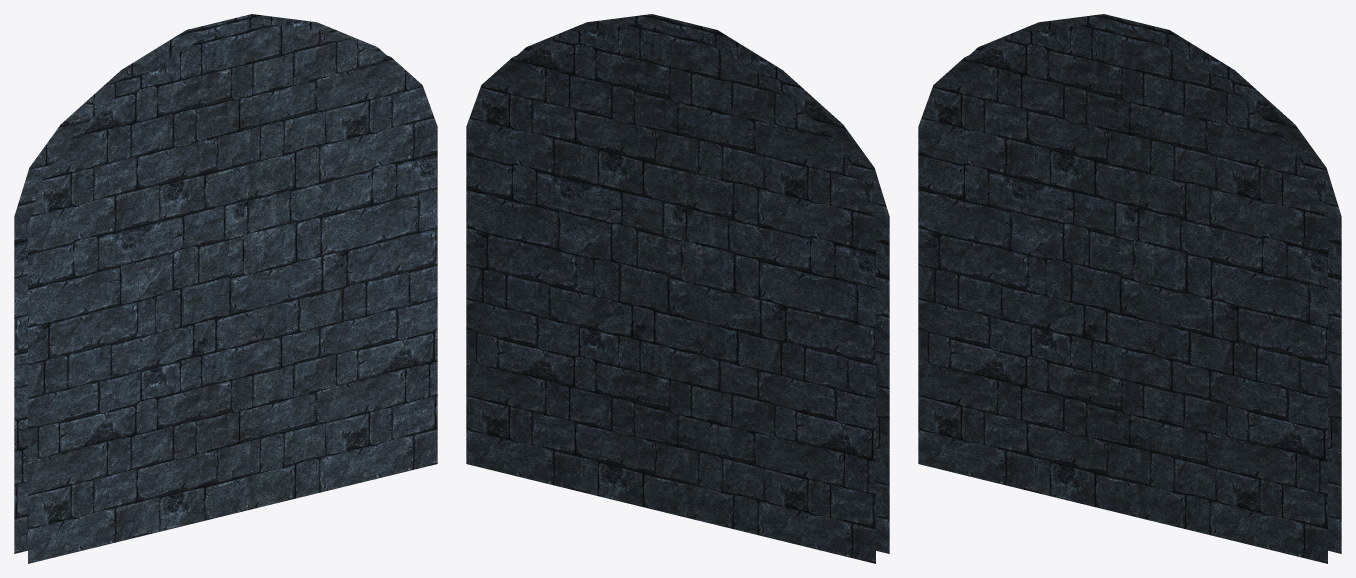
Rendered from ClosedWall.FBX.
3 views of the same model, side by side, from view 1: azimuth 30°, elevation 25°; view 2: azimuth 150°, elevation 25°; view 3: azimuth 330°, elevation 25° (orthographic).
Visible parts, largest first — view 1: Line01; view 2: Line01; view 3: Line01.
Part boxes in pixels (x1,y1,x2,y2): Line01: (14, 14, 437, 563); Line01: (466, 14, 889, 563); Line01: (918, 14, 1341, 563).
Size of the model in its own units: 62.52 by 70.28 by 3.59.
